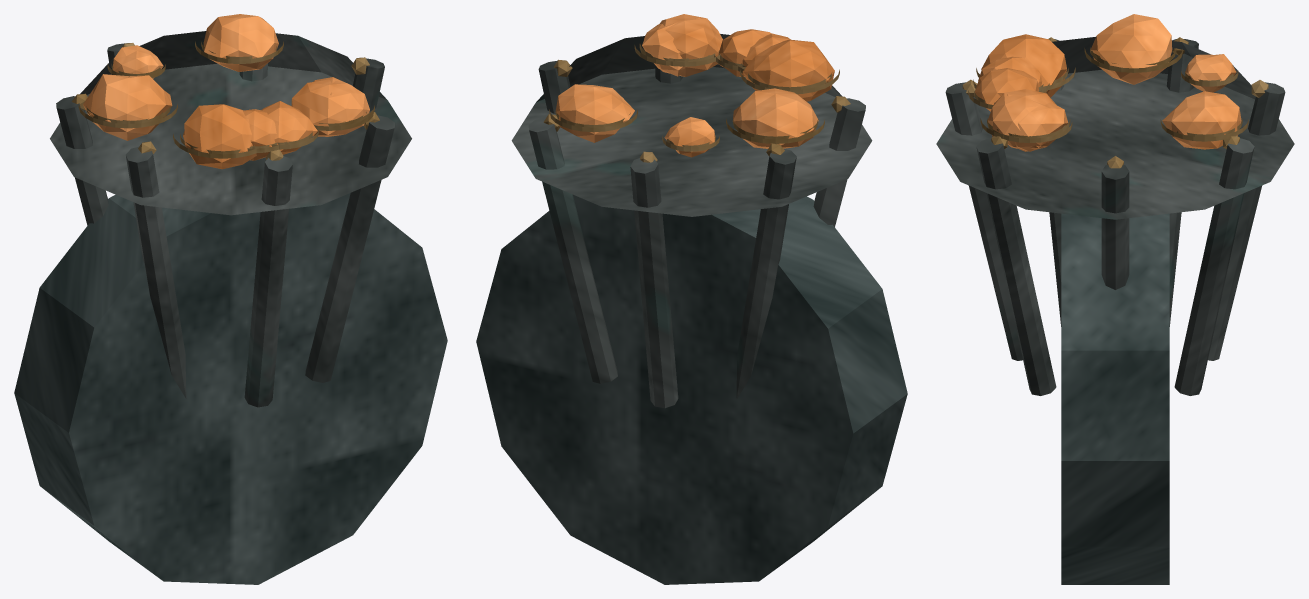
The model's file is 0536_brazier_11.glb.
3 renders of one model, left to right at view 1: azimuth 30°, elevation 25°; view 2: azimuth 150°, elevation 25°; view 3: azimuth 270°, elevation 25°, orthographic.
Visible parts, largest first — view 1: stone_dark, iron, amber, brass; view 2: stone_dark, iron, amber, brass; view 3: iron, stone_dark, amber, brass.
Boxes of the visible parts, box(x1,y1,x2,y2) form: stone_dark: box(14, 193, 447, 584); iron: box(50, 31, 411, 407); amber: box(83, 14, 369, 169); brass: box(71, 41, 379, 160); stone_dark: box(476, 194, 907, 584); iron: box(511, 34, 872, 408); amber: box(555, 14, 834, 157); brass: box(543, 44, 850, 162); iron: box(936, 37, 1294, 395); stone_dark: box(1061, 213, 1169, 584); amber: box(975, 14, 1241, 151); brass: box(962, 37, 1268, 168).
Size of the model in its own units: 1.4 by 1.79 by 1.16.
Materials: 4 (4 with a texture image).
